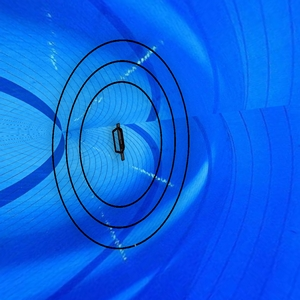circle: (49, 37, 195, 254)
submarine: (108, 119, 134, 167)
